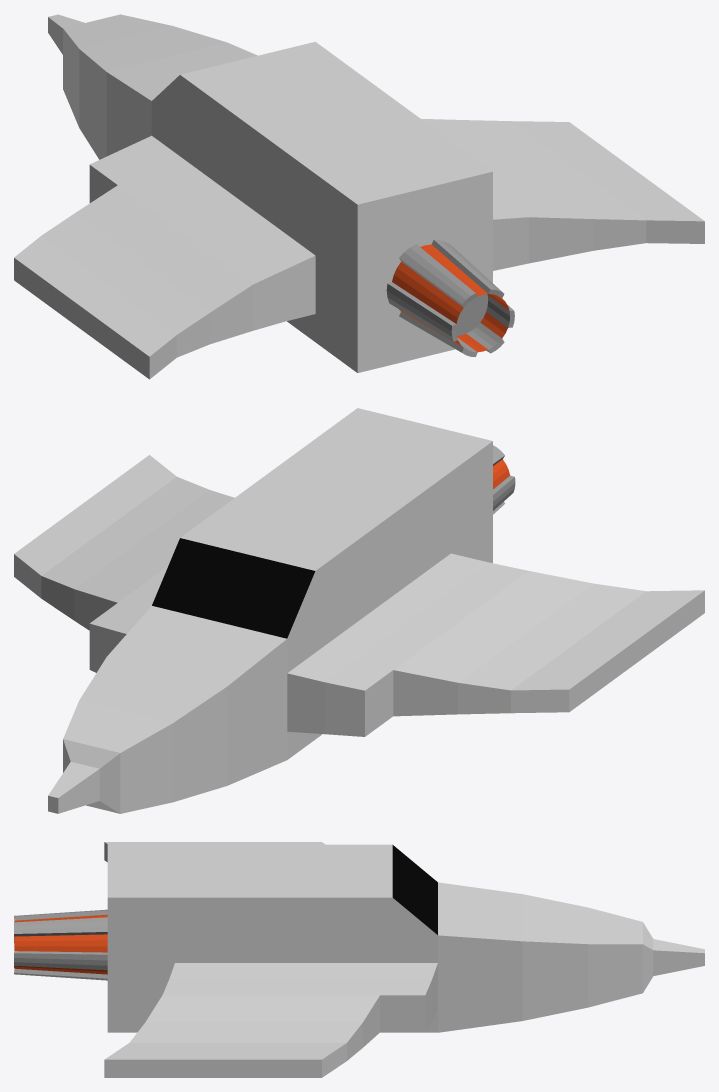
The model's file is ShipM1.fbx.
3 renders of one model, top to bottom at view 1: azimuth 30°, elevation 25°; view 2: azimuth 150°, elevation 25°; view 3: azimuth 270°, elevation 25°, orthographic. The views are drawn at different scales.
Visible parts, largest first — view 1: Cube, Cylinder; view 2: Cube, Cylinder; view 3: Cube, Cylinder.
Part boxes in pixels (x1,y1,x2,y2): Cube: (14, 14, 704, 379); Cylinder: (386, 239, 514, 356); Cube: (14, 408, 704, 813); Cylinder: (493, 445, 515, 514); Cube: (104, 842, 704, 1077); Cylinder: (14, 909, 107, 980).
Bounding box in the file's own units: 820 × 238 × 1101.
